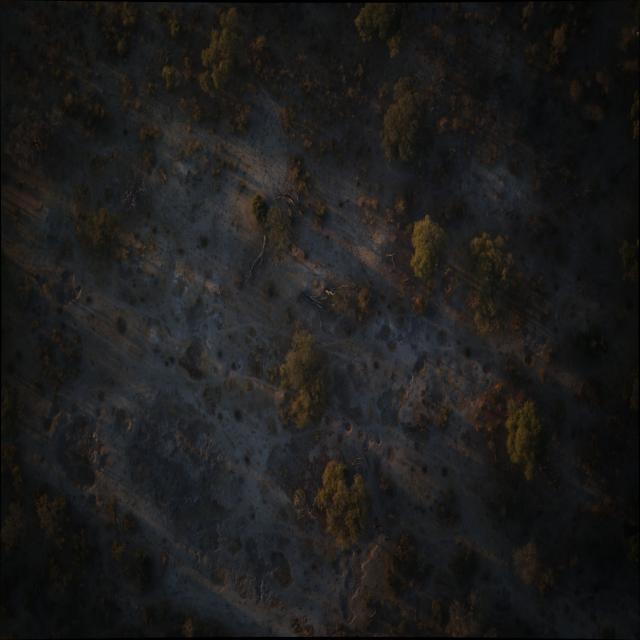elephant: (372, 522, 381, 529), (398, 545, 407, 552), (538, 466, 548, 472), (555, 473, 560, 483), (383, 536, 390, 541), (547, 456, 550, 462)
